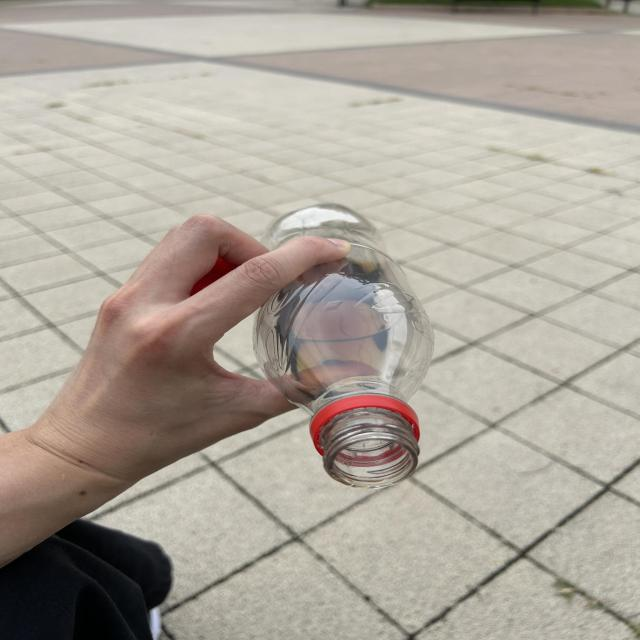low: (253, 204, 433, 489)
